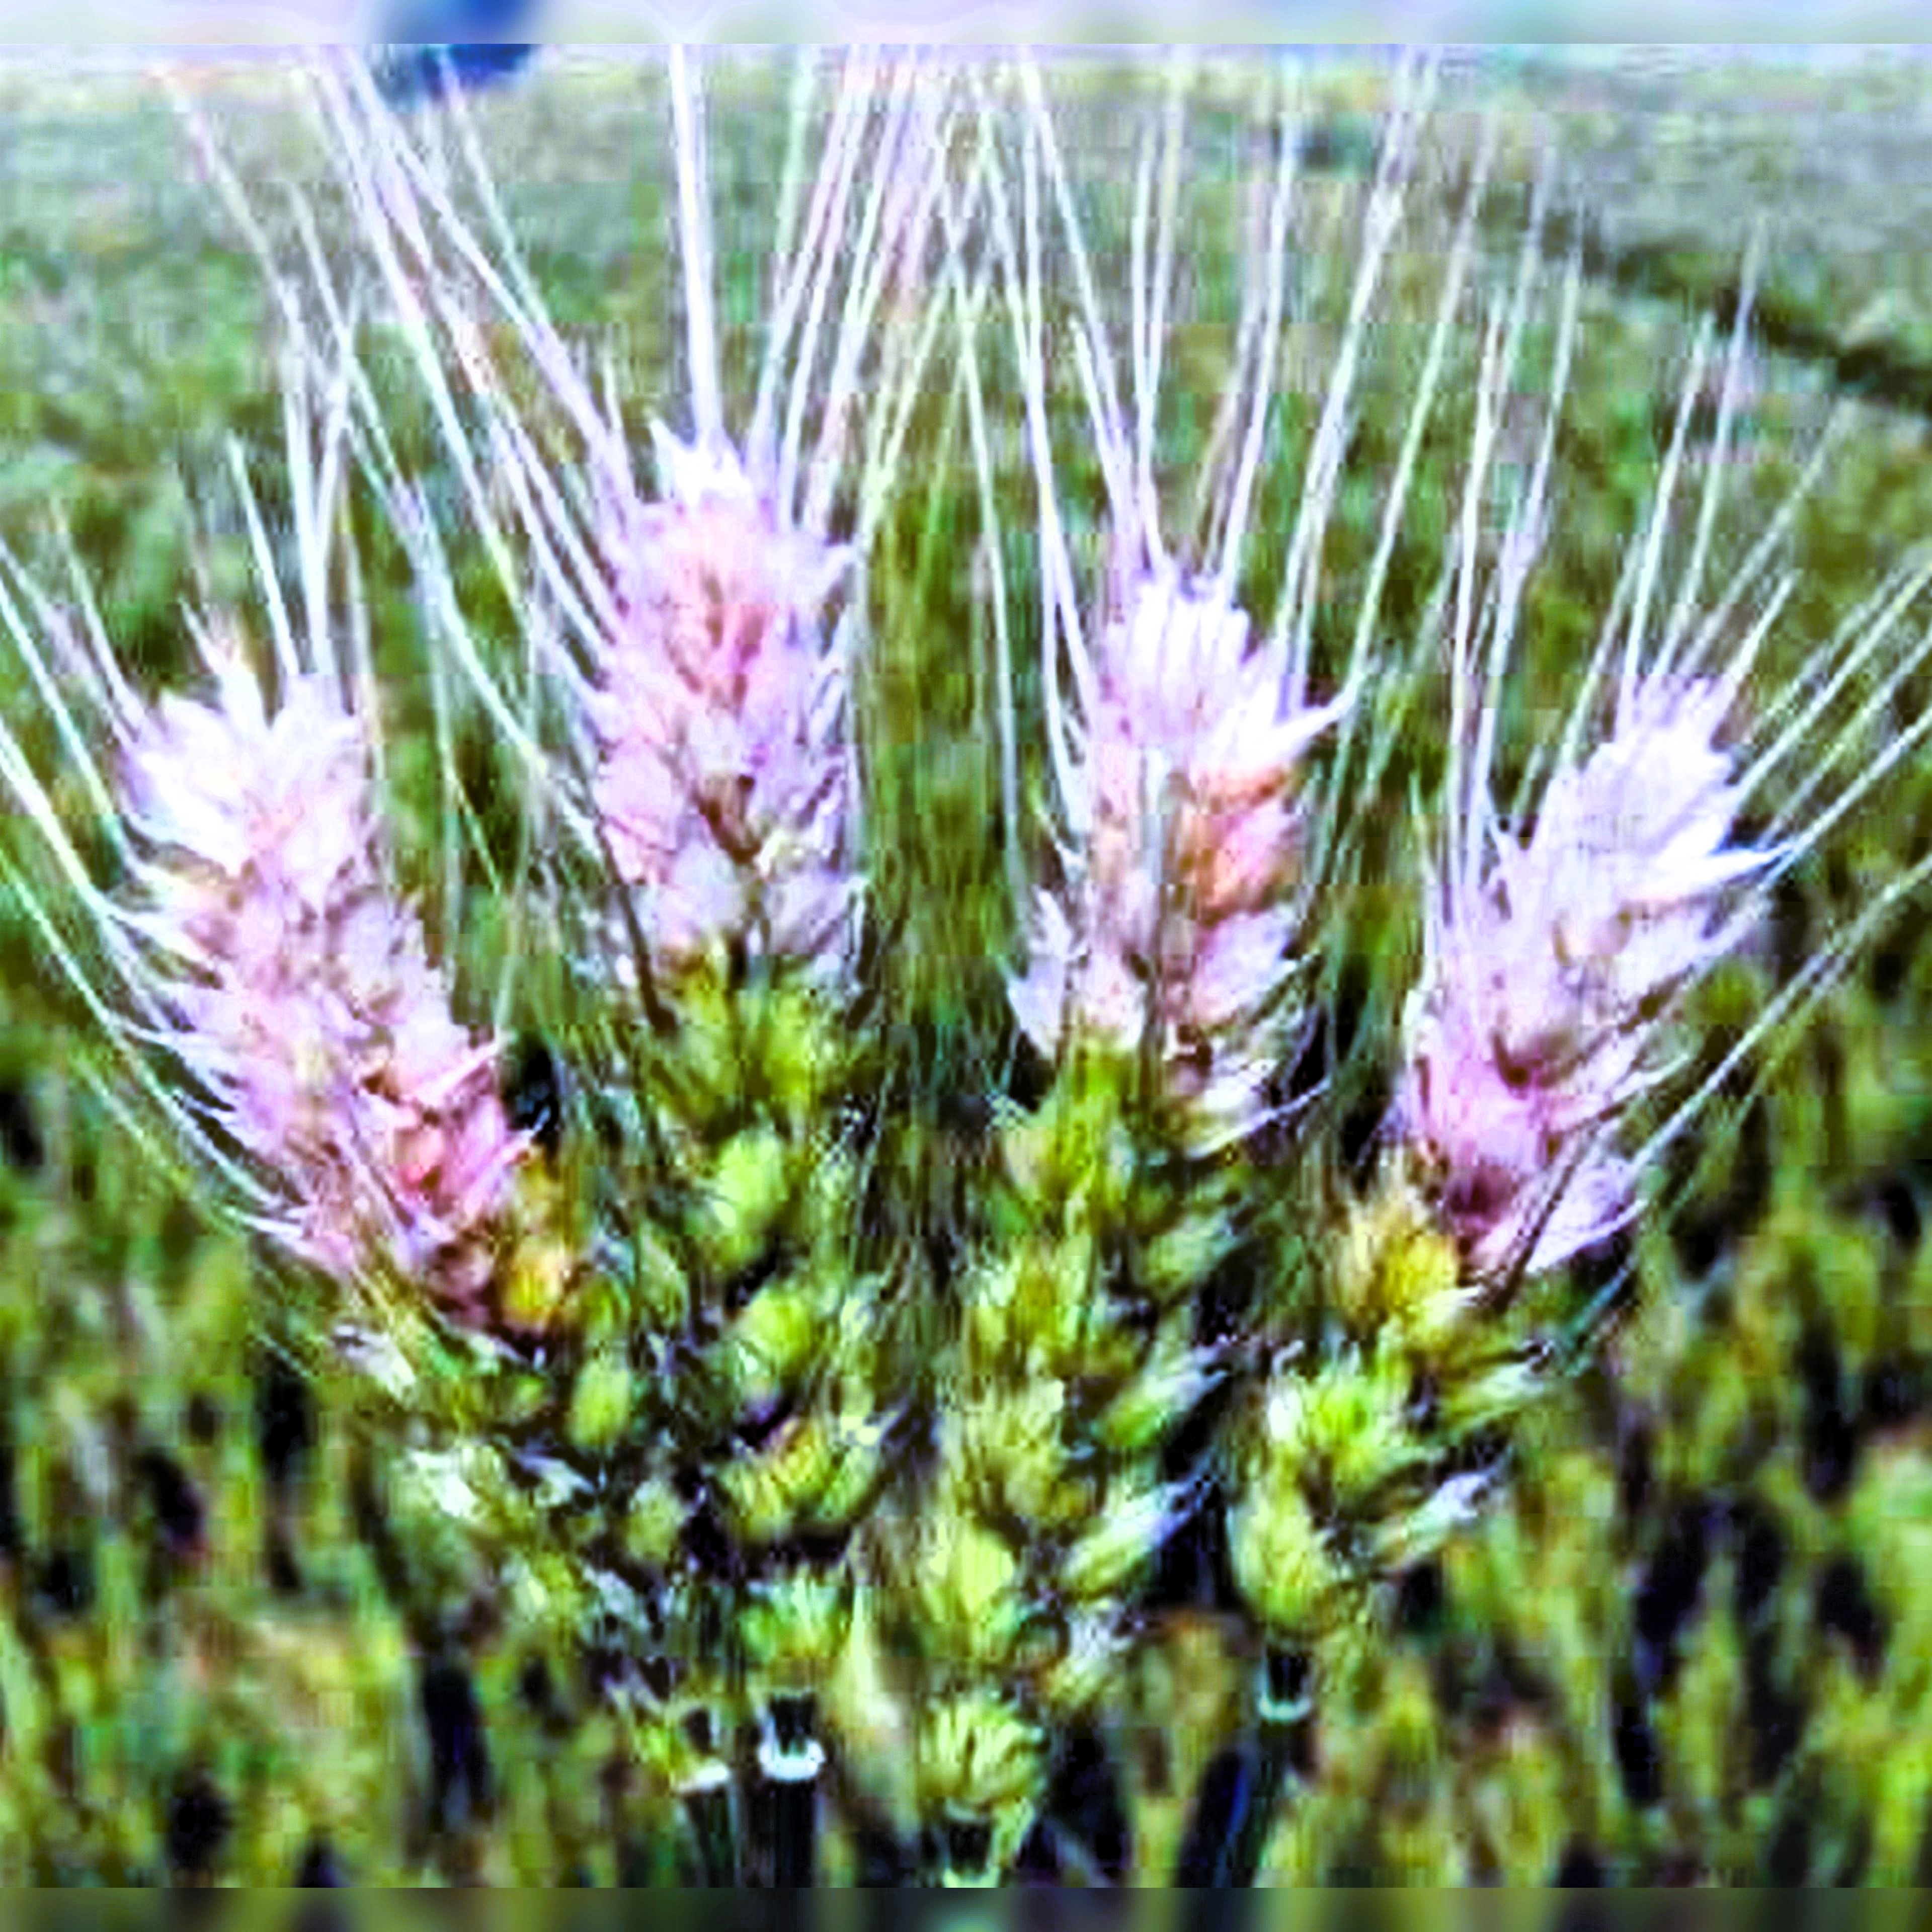Wheat scab: (573, 435, 936, 1608)
